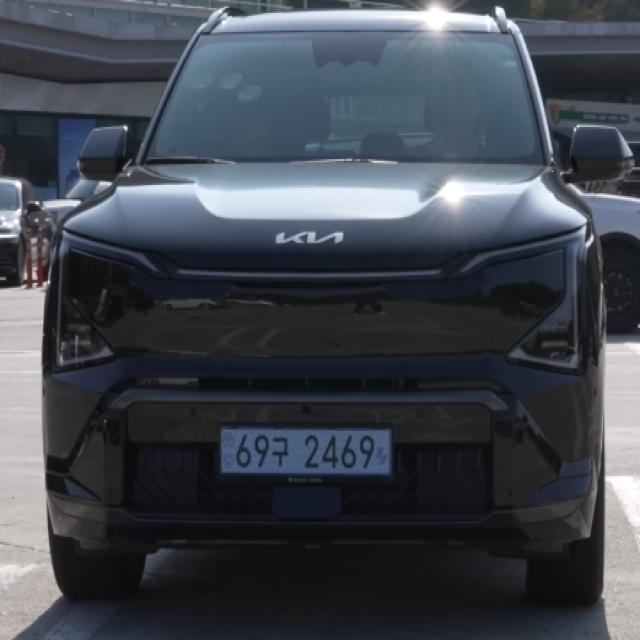car: (187, 410, 409, 505)
carev: (373, 425, 395, 475), (219, 427, 236, 478)
